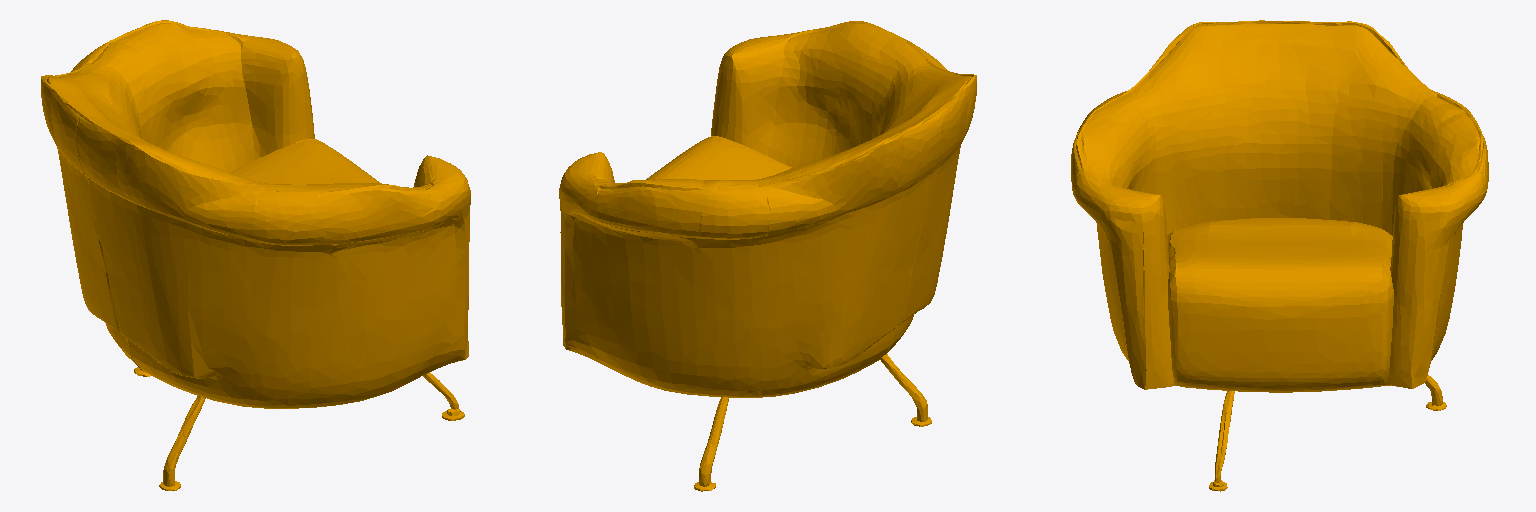
robot.urdf — lounge_chair_22:
<?xml version="1.0" ?>
<robot name="lounge_chair_22">
   <link name="lounge_chair_22">
      <visual>
         <origin xyz="0 0 0" rpy="1.5708 0.0 0.0"/>
         <geometry>
            <mesh filename="mesh/lounge_chair_22.obj" scale="1.0 1.0 1.0"/>
         </geometry>
      </visual>
      <collision>
         <origin xyz="0 0 0" rpy="1.5708 0.0 0.0"/>
         <geometry>
            <mesh filename="mesh/lounge_chair_22_collision.obj" scale="1.0 1.0 1.0"/>
         </geometry>
         <gazebo>
            <mu1>0.80</mu1>
            <mu2>0.60</mu2>
         </gazebo>
      </collision>
      <inertial>
         <mass value="15.0000"/>
         <origin xyz="0 0 0"/>
         <inertia ixx="1.0" ixy="0.0" ixz="0.0" iyy="1.0" iyz="0.0" izz="1.0"/>
      </inertial>
      <extra_info>
         <scale>0.940027</scale>
         <version>v0.1.5</version>
         <category>lounge_chair</category>
         <description>modern orange lounge chair with curved armrests and metal legs</description>
         <min_height>0.75</min_height>
         <max_height>0.85</max_height>
         <real_height>0.8</real_height>
         <min_mass>12.0</min_mass>
         <max_mass>18.0</max_mass>
         <generate_time>20251021115853</generate_time>
         <gs_model>mesh/lounge_chair_22_gs.ply</gs_model>
      </extra_info>
   </link>
   <custom_data>
      <quality>
         <MeshGeoChecker>YES</MeshGeoChecker>
         <ImageSegChecker>YES</ImageSegChecker>
         <ImageAestheticChecker>4.509079337120056</ImageAestheticChecker>
         <overall>YES</overall>
      </quality>
   </custom_data>
</robot>

--- Render facts (derived) ---
The picture shows the robot from 3 angles, left to right: view 1: azimuth 30°, elevation 25°; view 2: azimuth 150°, elevation 25°; view 3: azimuth 270°, elevation 25°; orthographic projection.
Model lounge_chair_22 with 1 links and 0 joints (none), rooted at lounge_chair_22, posed all joints at 0.
Visible links, largest first — view 1: lounge_chair_22; view 2: lounge_chair_22; view 3: lounge_chair_22.
Boxes of the visible links, box(x1,y1,x2,y2) form: lounge_chair_22: box(41, 20, 470, 490); lounge_chair_22: box(559, 21, 976, 491); lounge_chair_22: box(1071, 20, 1488, 491).
Bounding box of the posed robot: 0.8178 × 0.94 × 0.8 m (x, y, z).
1 mesh visuals loaded from 1 distinct referenced files (1 OBJ).
